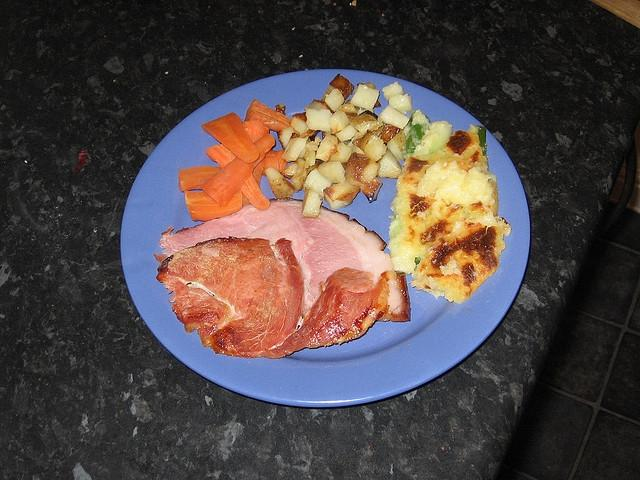carrot: (200, 133, 276, 208), (204, 144, 270, 210), (201, 111, 260, 163), (184, 188, 243, 222), (244, 99, 292, 132), (178, 166, 221, 192), (262, 150, 288, 176), (242, 120, 269, 144)
potato: (341, 152, 380, 186), (352, 130, 388, 162), (324, 179, 361, 209), (264, 167, 294, 199), (302, 168, 332, 198), (280, 159, 320, 180), (375, 148, 402, 179), (377, 106, 410, 130), (350, 84, 380, 110), (358, 176, 384, 204), (300, 188, 323, 218), (282, 136, 308, 162), (315, 135, 339, 162), (330, 74, 354, 100), (349, 114, 380, 134), (318, 161, 346, 183), (305, 108, 331, 131), (276, 126, 300, 150), (304, 136, 322, 168), (387, 130, 406, 160), (329, 110, 350, 134), (389, 94, 413, 114), (325, 88, 345, 112), (383, 80, 404, 102), (378, 124, 401, 144), (304, 99, 334, 114), (289, 113, 309, 135), (466, 201, 486, 220), (336, 124, 356, 142), (292, 168, 306, 192), (369, 118, 384, 132), (347, 136, 354, 146)
